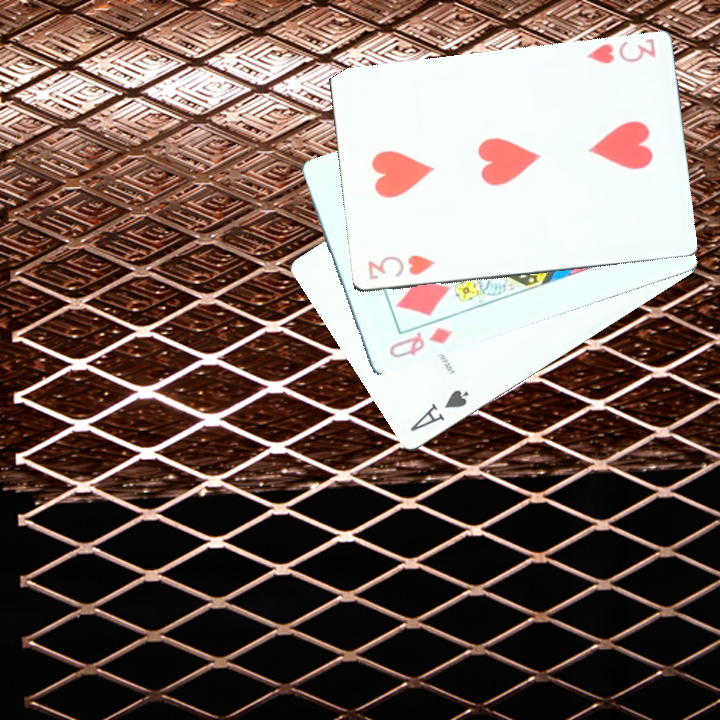3h: (363, 251, 438, 283), (582, 36, 659, 67)
As: (405, 385, 472, 434)
Qd: (385, 311, 454, 361)
